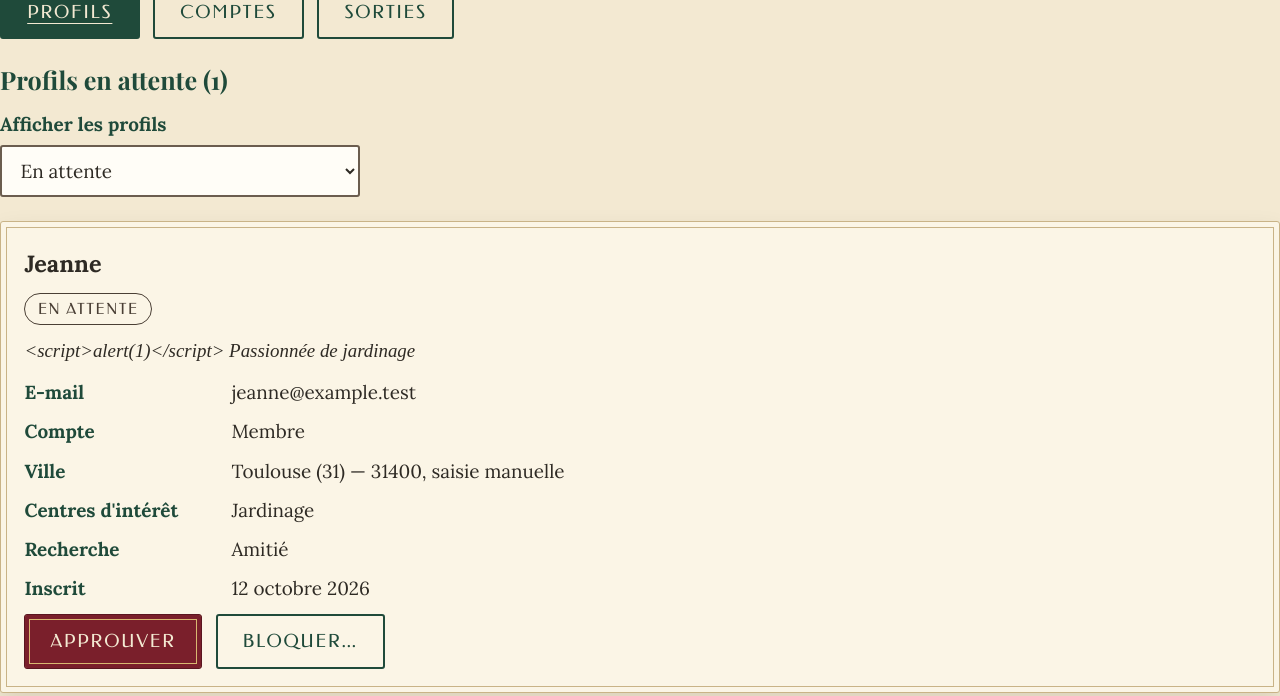
file des profils › approuver : appel direct, carte mise à jour et retour focalisé
(page scrolled)
Click the button "Approuver". click: coordinates (113, 642)
box: [24, 614, 202, 669]
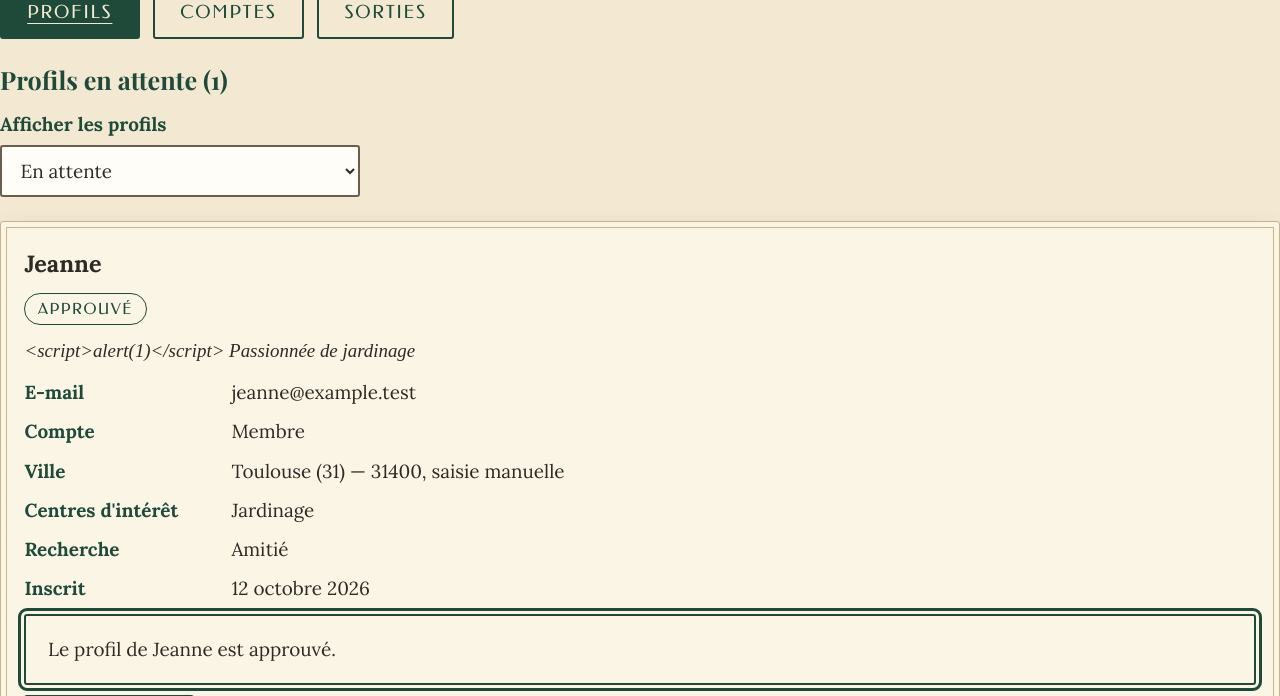
Expected: the message "Le profil de Jeanne est approuvé." is shown, [24, 614, 1256, 685]
Expected: the text with class "badge" reads "Approuvé", [38, 300, 133, 318]
